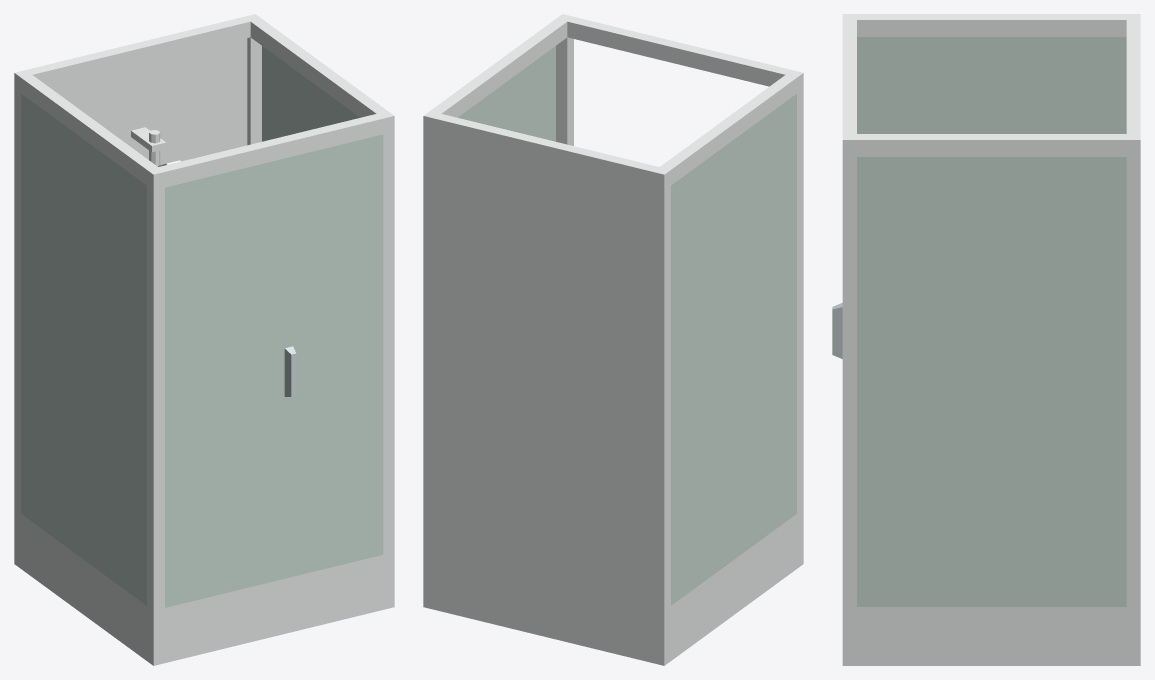
Rendered from shower.glb.
3 views of the same model, side by side, from view 1: azimuth 30°, elevation 25°; view 2: azimuth 150°, elevation 25°; view 3: azimuth 270°, elevation 25° (orthographic). The views are drawn at different scales.
Visible parts, largest first — view 1: shower(Clone), doorRight, doorLeft; view 2: shower(Clone); view 3: shower(Clone), doorRight.
Part boxes in pixels (box(x1,y1,x2,y2)): shower(Clone): box(14, 14, 394, 665); doorRight: box(274, 134, 383, 581); doorLeft: box(165, 161, 273, 607); shower(Clone): box(423, 14, 803, 665); shower(Clone): box(842, 14, 1140, 665); doorRight: box(832, 303, 842, 358).
Bounding box in the file's own units: 1.14 × 2.22 × 1.18.
Materials: 4 (4 with a texture image).
